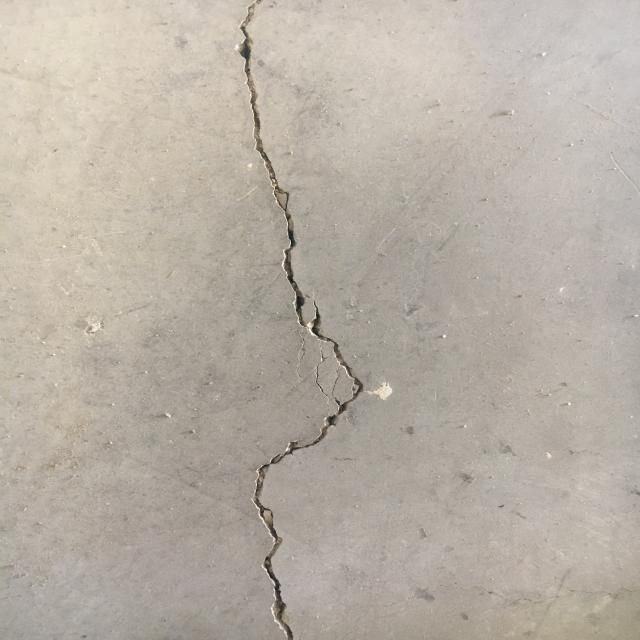Rachadura: (237, 0, 362, 400), (252, 364, 344, 640)
